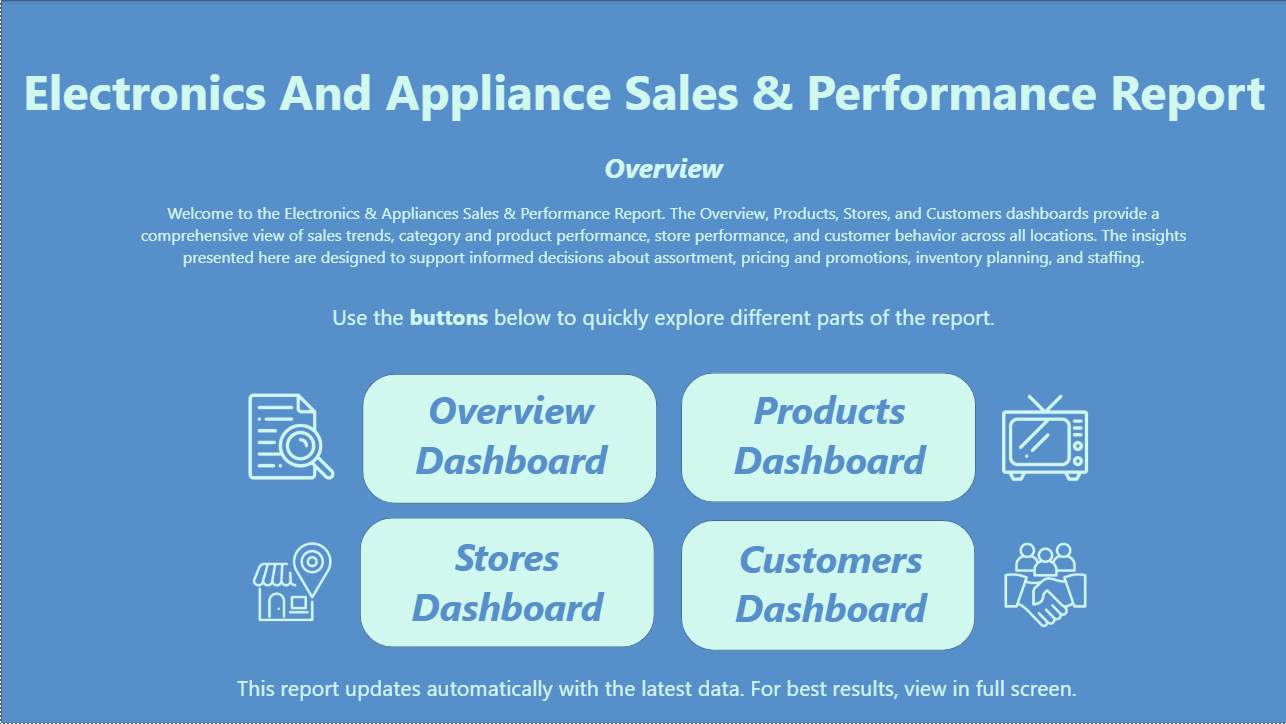

Layout of this report page (visuals, bound fields, positions):
{"tool":"powerbi","page":{"name":"Landing Page","canvas":[1280,720],"ordinal":0},"visuals":[{"type":"shape","box":[0,0,1280,720.3],"z":0},{"type":"textbox","box":[0,42.3,1280,90.8],"z":1000},{"type":"textbox","box":[114.4,133.1,1069.8,202.8],"z":2000},{"type":"textbox","box":[100.2,653.9,1083.8,45.9],"z":3000},{"type":"shape","box":[349.2,361.7,293.6,129.4],"z":4000},{"type":"shape","box":[666.4,360.3,293.6,129.4],"z":5000},{"type":"shape","box":[346.4,505,293.6,129.4],"z":6000},{"type":"shape","box":[675.5,516.3,293.6,129.4],"z":7000},{"type":"textbox","box":[370.1,367.3,253.2,118.3],"z":8000},{"type":"textbox","box":[367.3,513.4,253.2,128],"z":9000},{"type":"textbox","box":[688.7,367.3,250.4,118.3],"z":10000},{"type":"textbox","box":[690.1,510.1,250.4,118.3],"z":11000},{"type":"image","box":[232.3,377,96,96],"z":12000},{"type":"image","box":[232.3,524.5,96,105.7],"z":13000},{"type":"image","box":[980.9,521.7,96,91.8],"z":14000},{"type":"image","box":[980.9,377,96,101.6],"z":15000},{"type":"actionButton","box":[349.2,360.3,293.6,129.4],"z":16000},{"type":"actionButton","box":[665,360.3,293.6,129.4],"z":17000},{"type":"actionButton","box":[346.4,506.4,293.6,129.4],"z":18000},{"type":"actionButton","box":[665.5,506.3,293.6,129.4],"z":19000},{"type":"shape","box":[0,0,1280,720.3],"z":20000},{"type":"textbox","box":[0,52.3,1280,90.8],"z":21000},{"type":"textbox","box":[124.4,143.1,1069.8,233.9],"z":22000},{"type":"textbox","box":[110.2,663.9,1083.8,45.9],"z":23000},{"type":"shape","box":[359.2,371.7,293.6,129.4],"z":24000},{"type":"shape","box":[676.4,370.3,293.6,129.4],"z":25000},{"type":"shape","box":[356.4,515,293.6,129.4],"z":26000},{"type":"shape","box":[677.1,517.1,292.9,130],"z":27000},{"type":"textbox","box":[380.1,377.3,253.2,118.3],"z":28000},{"type":"textbox","box":[377.3,523.4,253.2,128],"z":29000},{"type":"textbox","box":[698.7,377.3,250.4,118.3],"z":30000},{"type":"textbox","box":[699.8,524.5,250.4,122.4],"z":31000},{"type":"actionButton","box":[359.2,370.3,293.6,129.4],"z":32000},{"type":"actionButton","box":[675,370.3,293.6,129.4],"z":33000},{"type":"actionButton","box":[356.4,516.4,293.6,129.4],"z":34000},{"type":"actionButton","box":[677.1,517.1,292.9,130],"z":35000},{"type":"image","box":[241.4,387.1,95.7,95.7],"z":36000},{"type":"image","box":[991.4,388.6,95.7,95.7],"z":37000},{"type":"image","box":[991.4,534.3,95.7,94.3],"z":38000},{"type":"image","box":[242.9,534.3,94.3,88.6],"z":39000}]}

Visuals, with their boxes in screenshot pixels (x1, y1, x2, y2), scaled from the page's 1280x720 canvas onto the 1286x724 screenshot:
shape: box(0, 0, 1285, 723)
textbox: box(0, 43, 1285, 134)
textbox: box(115, 134, 1190, 338)
textbox: box(101, 658, 1190, 704)
shape: box(351, 364, 646, 494)
shape: box(670, 362, 964, 492)
shape: box(348, 508, 643, 638)
shape: box(679, 519, 974, 649)
textbox: box(372, 369, 626, 488)
textbox: box(369, 516, 623, 645)
textbox: box(692, 369, 944, 488)
textbox: box(693, 513, 945, 632)
image: box(233, 379, 330, 476)
image: box(233, 527, 330, 634)
image: box(985, 525, 1082, 617)
image: box(985, 379, 1082, 481)
actionButton: box(351, 362, 646, 492)
actionButton: box(668, 362, 963, 492)
actionButton: box(348, 509, 643, 639)
actionButton: box(669, 509, 964, 639)
shape: box(0, 0, 1285, 723)
textbox: box(0, 53, 1285, 144)
textbox: box(125, 144, 1200, 379)
textbox: box(111, 668, 1200, 714)
shape: box(361, 374, 656, 504)
shape: box(680, 372, 975, 502)
shape: box(358, 518, 653, 648)
shape: box(680, 520, 975, 651)
textbox: box(382, 379, 636, 498)
textbox: box(379, 526, 633, 655)
textbox: box(702, 379, 954, 498)
textbox: box(703, 527, 955, 650)
actionButton: box(361, 372, 656, 502)
actionButton: box(678, 372, 973, 502)
actionButton: box(358, 519, 653, 649)
actionButton: box(680, 520, 975, 651)
image: box(243, 389, 339, 485)
image: box(996, 391, 1092, 487)
image: box(996, 537, 1092, 632)
image: box(244, 537, 339, 626)
